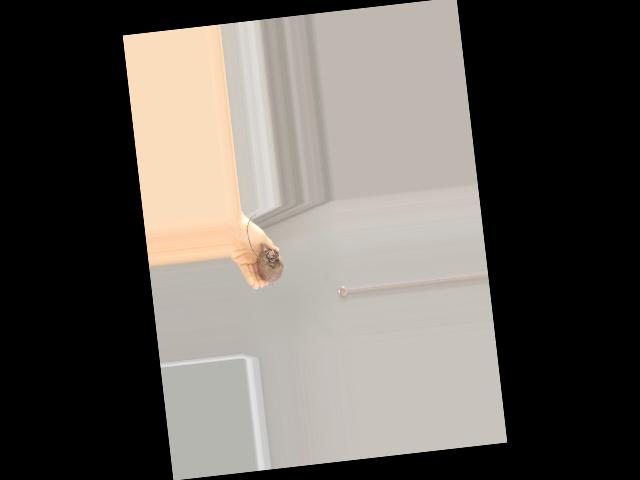beet: (244, 212, 285, 292)
